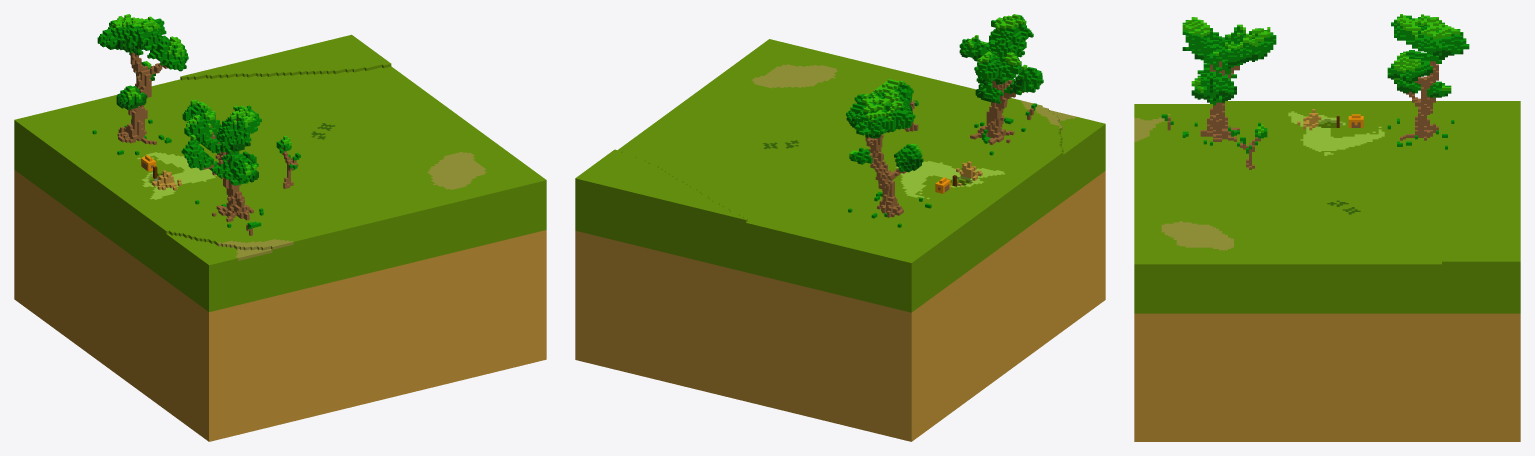
3 views of the same model, side by side, from view 1: azimuth 30°, elevation 25°; view 2: azimuth 150°, elevation 25°; view 3: azimuth 270°, elevation 25° (orthographic).
Parts seen in each view (by area): view 1: 1D; view 2: 1D; view 3: 1D.
Boxes of the visible parts, x1,y1,x2,y2 form: 1D: [14, 14, 546, 441]; 1D: [575, 14, 1105, 441]; 1D: [1134, 14, 1520, 441].
Size of the model in its own units: 12.8 by 10.9 by 12.8.
Materials: 1 (1 with a texture image).
